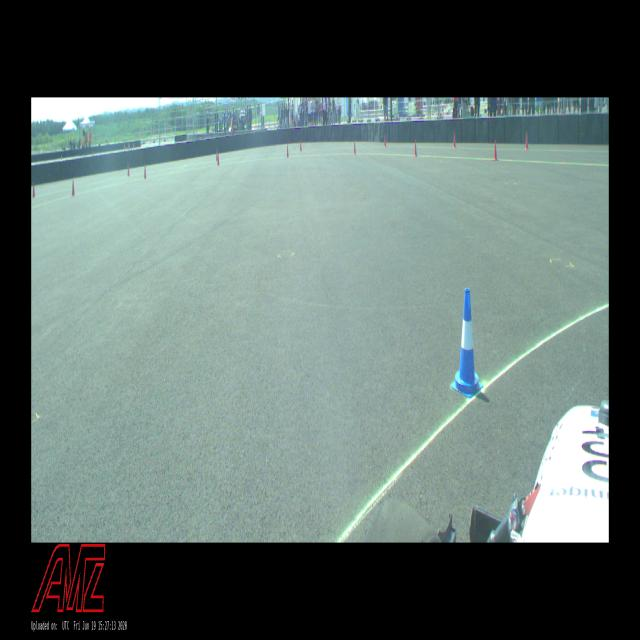blue_cone: (451, 288, 483, 397)
unknown_cone: (493, 140, 498, 160), (525, 132, 528, 150), (72, 180, 75, 196), (414, 140, 417, 156), (453, 134, 456, 148), (127, 164, 130, 176), (33, 182, 35, 197), (144, 164, 146, 178), (354, 140, 356, 154), (218, 153, 220, 166), (286, 145, 288, 158), (384, 134, 386, 147), (216, 150, 218, 162), (300, 140, 302, 152)
